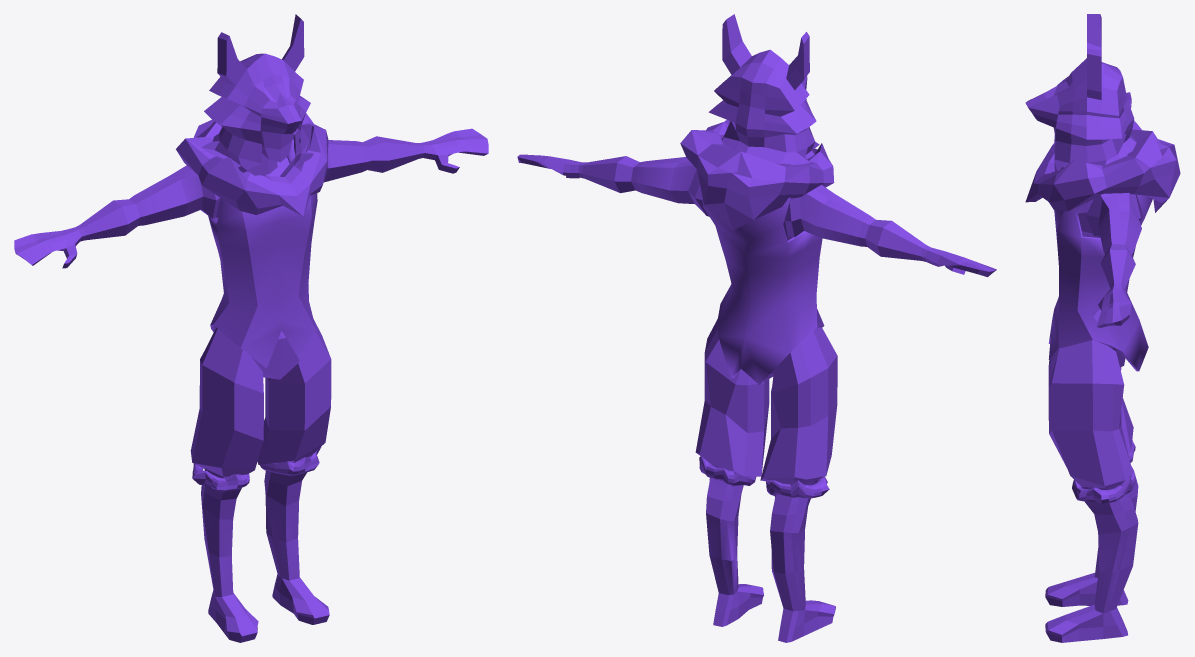
The model's file is ENEMY_Midtier.fbx.
The picture shows the model from 3 angles, left to right: view 1: azimuth 30°, elevation 25°; view 2: azimuth 150°, elevation 25°; view 3: azimuth 270°, elevation 25°; orthographic projection.
Visible parts, largest first — view 1: Fur_1.006; view 2: Fur_1.006; view 3: Fur_1.006.
Part boxes in pixels (<box>): Fur_1.006: <box>14,14,488,642</box>; Fur_1.006: <box>517,14,996,642</box>; Fur_1.006: <box>1025,14,1180,642</box>.
Bounding box in the file's own units: 164 × 197 × 47.05.
